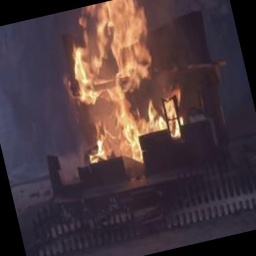fire: (34, 0, 205, 185)
